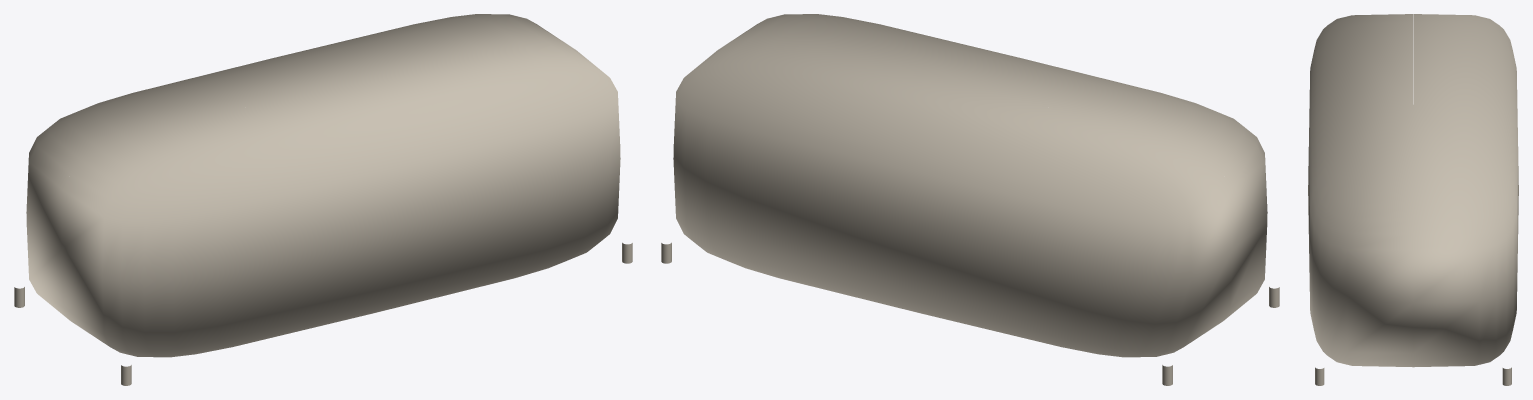
The model's file is ikea-morabo-60485764-g2-proxy.glb.
3 renders of one model, left to right at view 1: azimuth 30°, elevation 25°; view 2: azimuth 150°, elevation 25°; view 3: azimuth 270°, elevation 25°, orthographic. The views are drawn at different scales.
Visible parts, largest first — view 1: proxy_body; view 2: proxy_body; view 3: proxy_body.
Boxes of the visible parts, x1,y1,x2,y2 form: proxy_body: (26, 14, 620, 357); proxy_body: (673, 14, 1267, 357); proxy_body: (1308, 14, 1518, 367).
Bounding box in the file's own units: 2.27 × 0.81 × 0.9.
